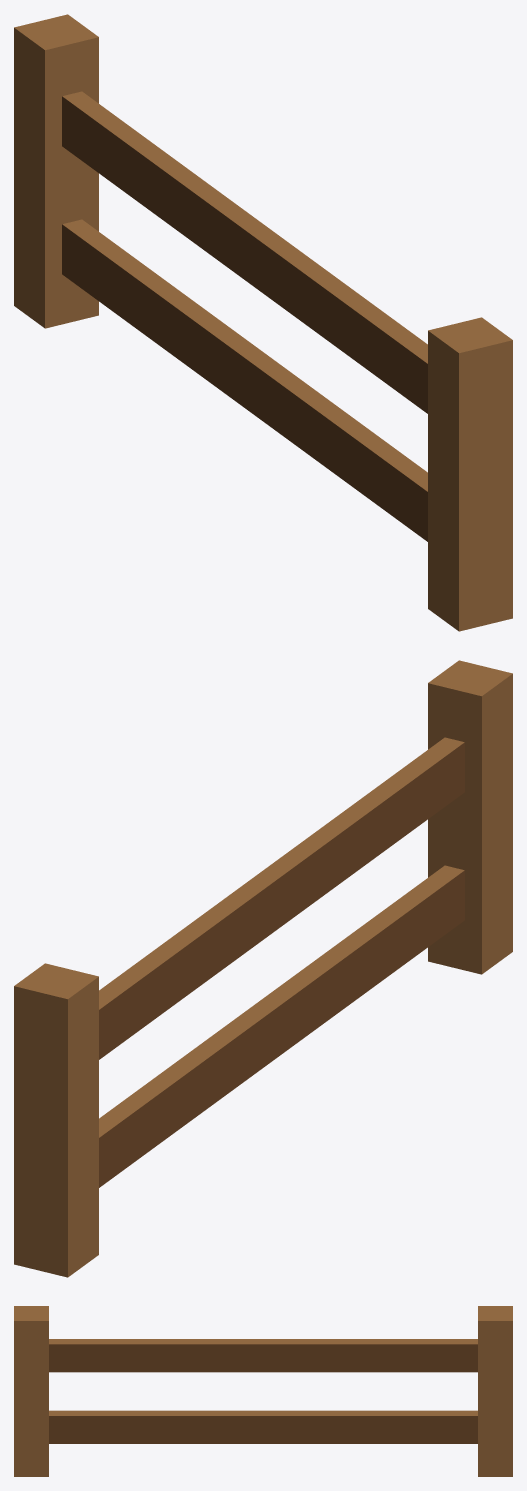
File: sn_fence.glb
3 views of the same model, one above another, from view 1: azimuth 30°, elevation 25°; view 2: azimuth 150°, elevation 25°; view 3: azimuth 270°, elevation 25° (orthographic). The views are drawn at different scales.
Visible parts, largest first — view 1: sn_fence; view 2: sn_fence; view 3: sn_fence.
Boxes of the visible parts, x1,y1,x2,y2 form: sn_fence: [14, 14, 512, 631]; sn_fence: [14, 660, 512, 1277]; sn_fence: [14, 1306, 512, 1476].
Bounding box in the file's own units: 0.1749 × 0.8625 × 2.5.
